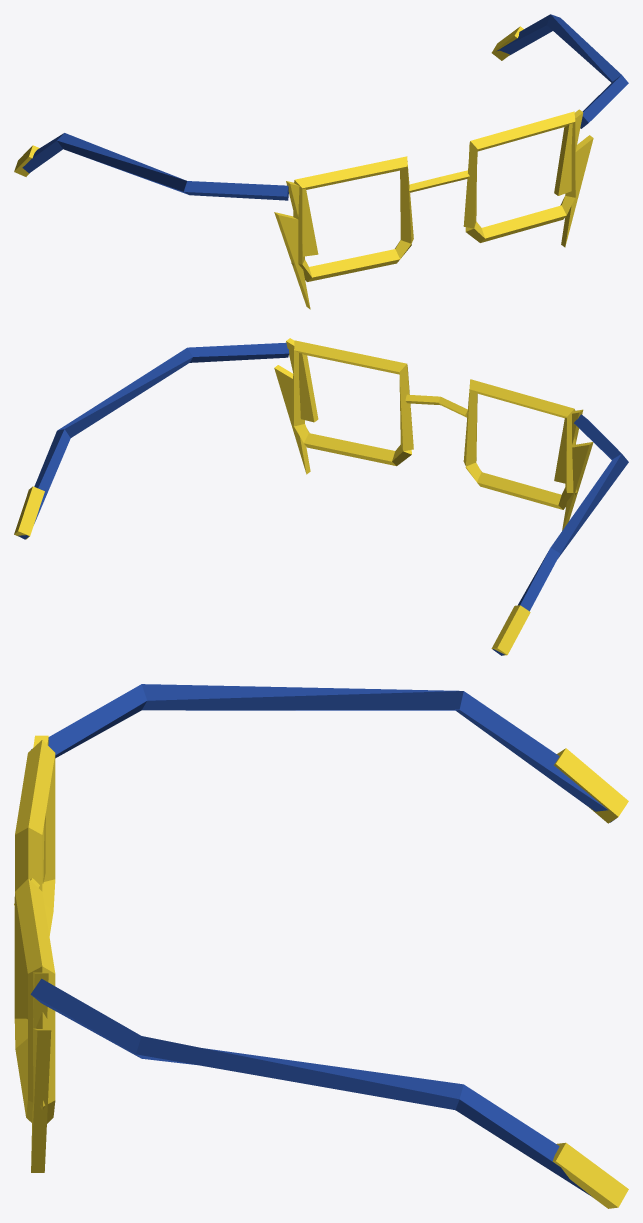
The model's file is acc-bolt-mode.glb.
The picture shows the model from 3 angles, top to bottom: view 1: azimuth 30°, elevation 25°; view 2: azimuth 150°, elevation 25°; view 3: azimuth 270°, elevation 25°; orthographic projection. The views are drawn at different scales.
Parts seen in each view (by area): view 1: acc-bolt-mode_ref2_acc-bolt-mode__head_front_mesh, acc-bolt-mode_ref2_acc-bolt-mode__head_side_mesh; view 2: acc-bolt-mode_ref2_acc-bolt-mode__head_front_mesh, acc-bolt-mode_ref2_acc-bolt-mode__head_side_mesh; view 3: acc-bolt-mode_ref2_acc-bolt-mode__head_side_mesh, acc-bolt-mode_ref2_acc-bolt-mode__head_front_mesh.
Part boxes in pixels (x1=…): acc-bolt-mode_ref2_acc-bolt-mode__head_front_mesh: x1=274, y1=109, x2=593, y2=309; acc-bolt-mode_ref2_acc-bolt-mode__head_side_mesh: x1=14, y1=14, x2=628, y2=200; acc-bolt-mode_ref2_acc-bolt-mode__head_front_mesh: x1=274, y1=338, x2=593, y2=530; acc-bolt-mode_ref2_acc-bolt-mode__head_side_mesh: x1=14, y1=342, x2=628, y2=655; acc-bolt-mode_ref2_acc-bolt-mode__head_side_mesh: x1=30, y1=684, x2=628, y2=1208; acc-bolt-mode_ref2_acc-bolt-mode__head_front_mesh: x1=14, y1=735, x2=55, y2=1172.
Bounding box in the file's own units: 0.4914 × 0.1219 × 0.3133.
